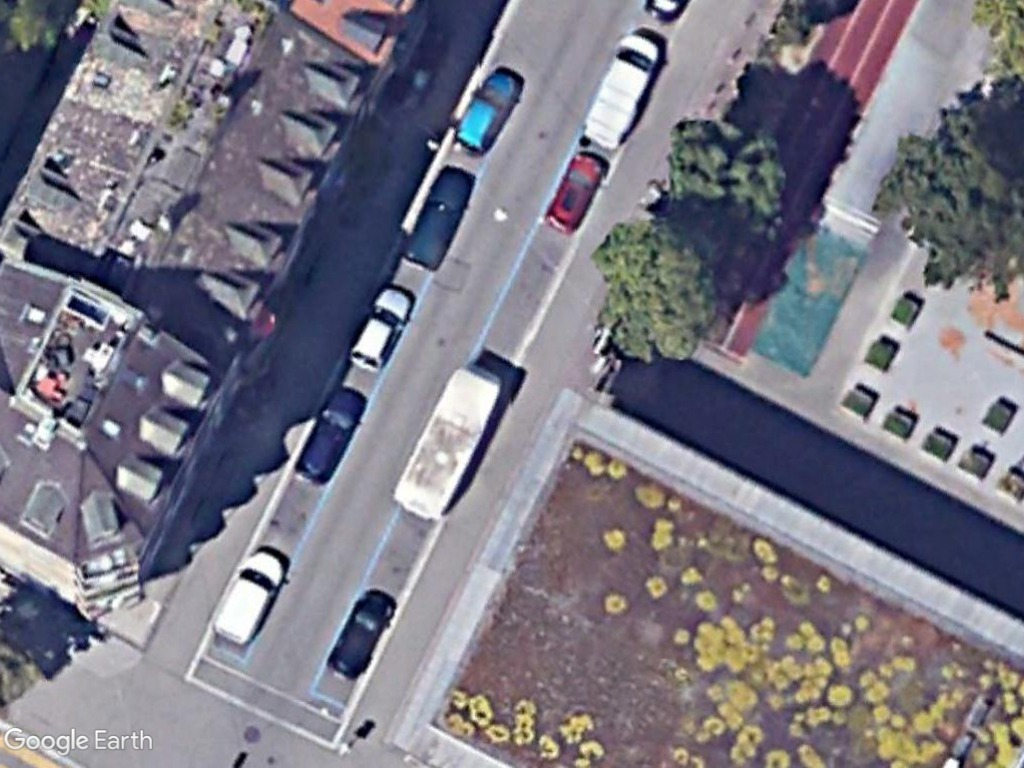car: (291, 383, 368, 486), (343, 279, 416, 373), (448, 65, 519, 157), (543, 148, 609, 238)
van: (578, 28, 663, 148), (208, 545, 289, 650)
